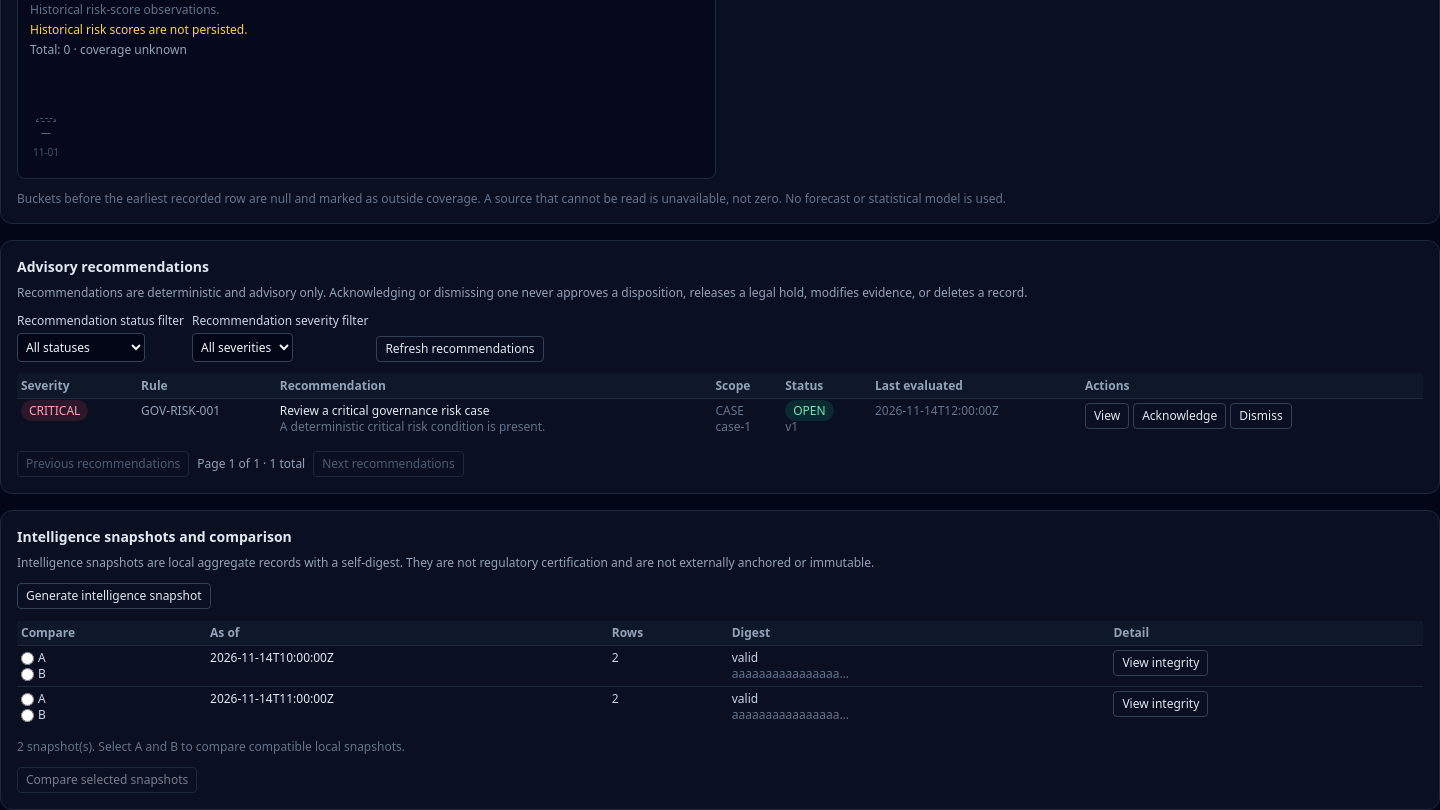
Test: IntelligenceWorkspace › never diffs incompatible or tampered snapshots
(page scrolled)
Click the radio button named "Left snapshot snap-1". click: x=28, y=658
box: 21,652 -> 34,664
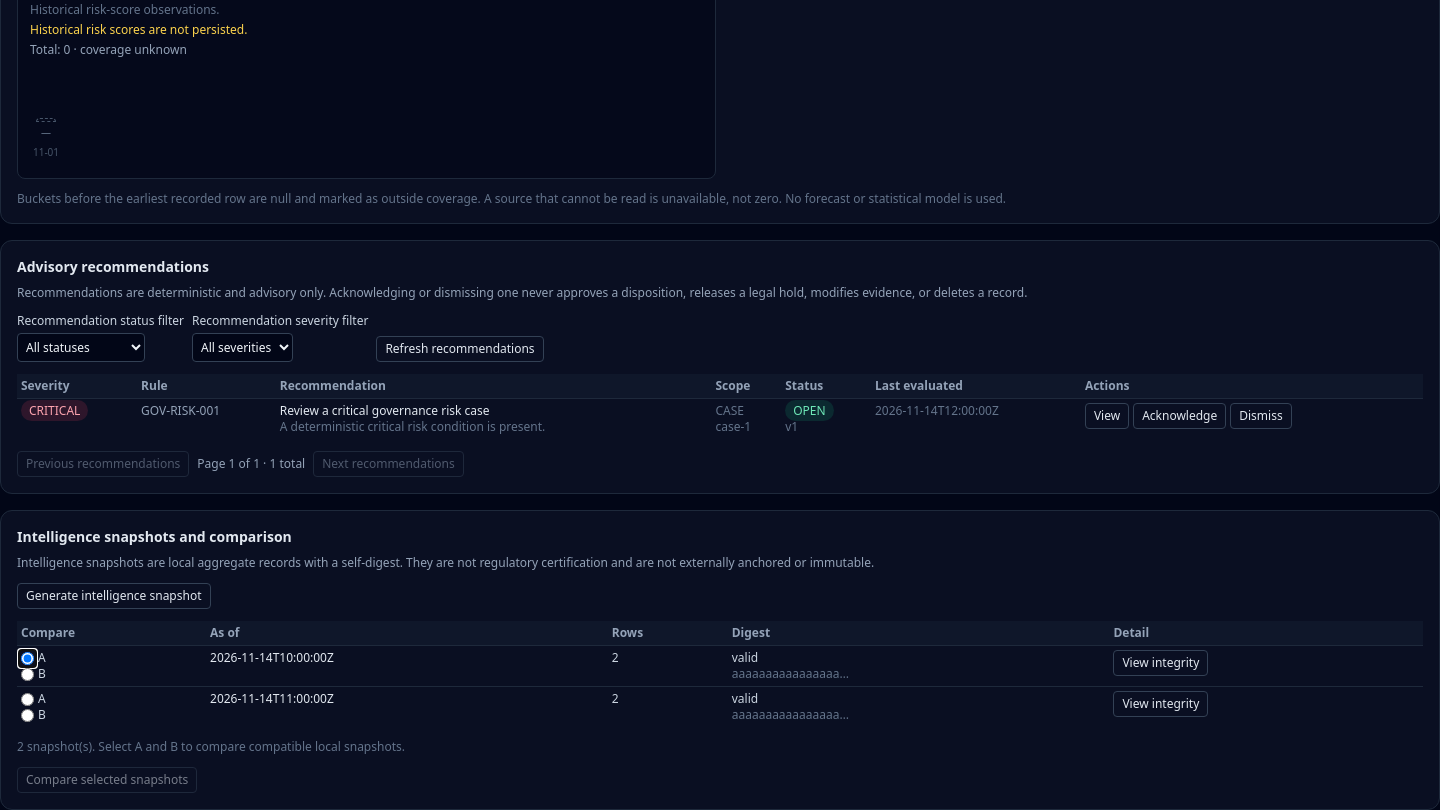
Click the radio button named "Right snapshot snap-2". click: x=28, y=715
box: 21,708 -> 34,722
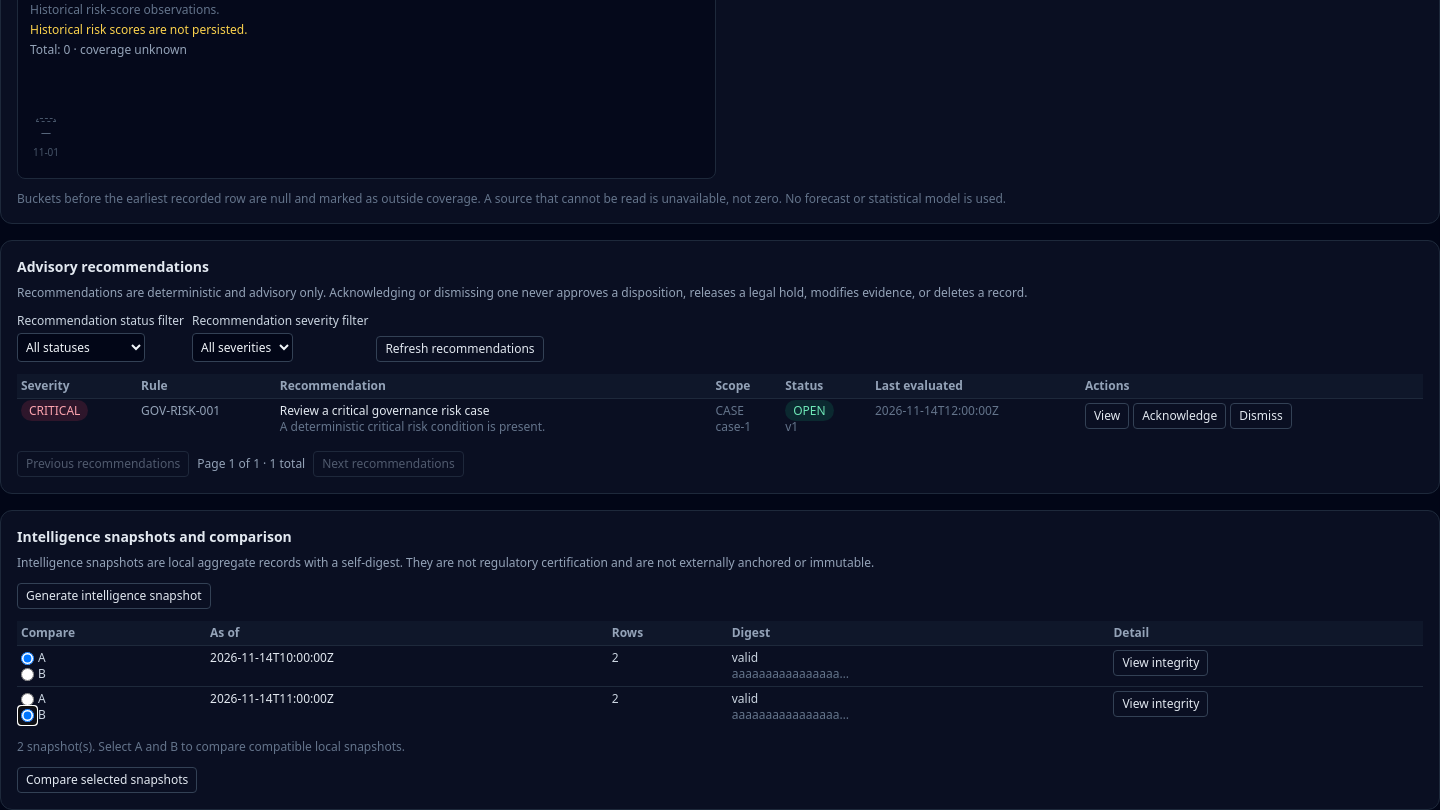
Click the button "Compare selected snapshots". click: x=107, y=780
box: 17,767 -> 197,793
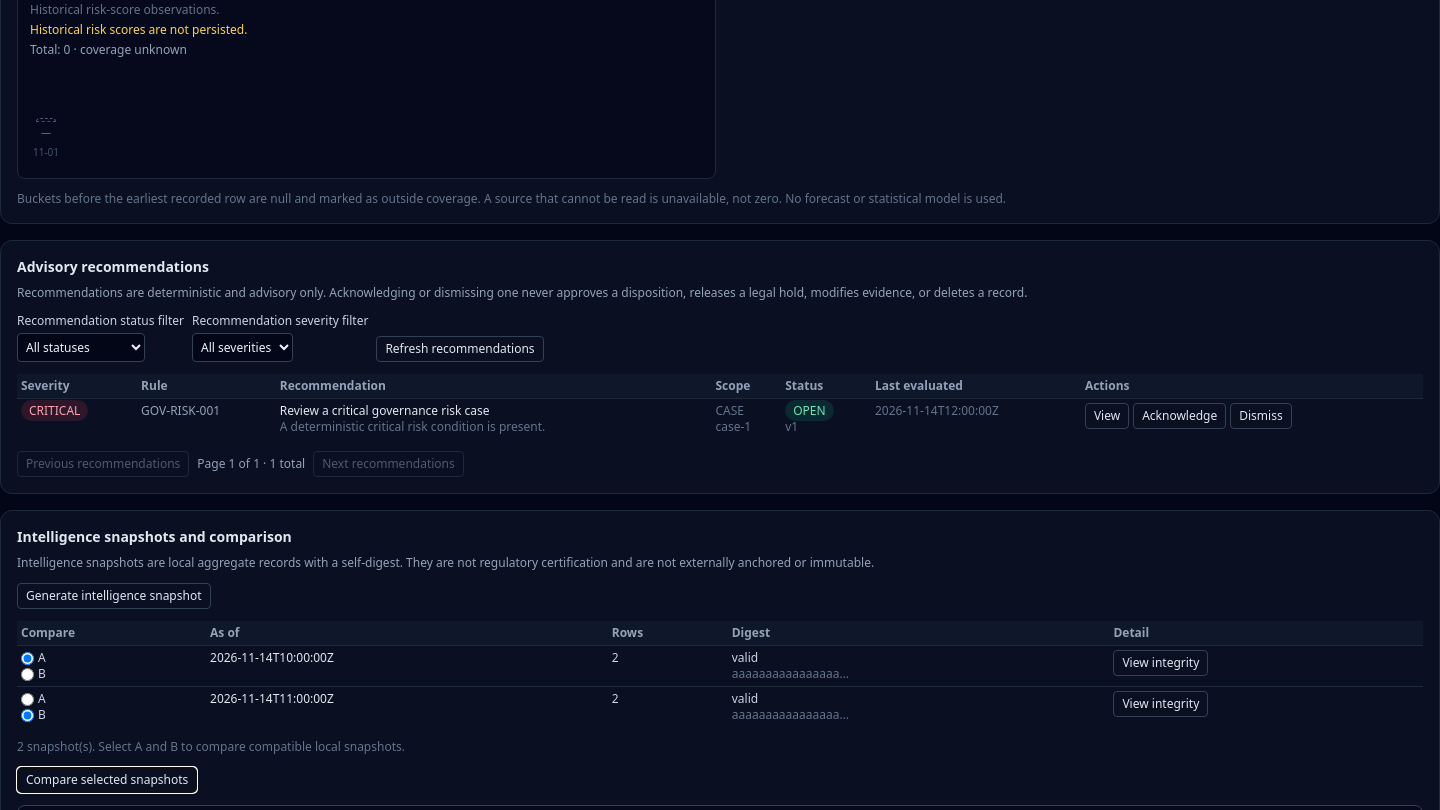
Click the button "Compare selected snapshots". click: x=107, y=780
box: 17,767 -> 197,793
(page scrolled)
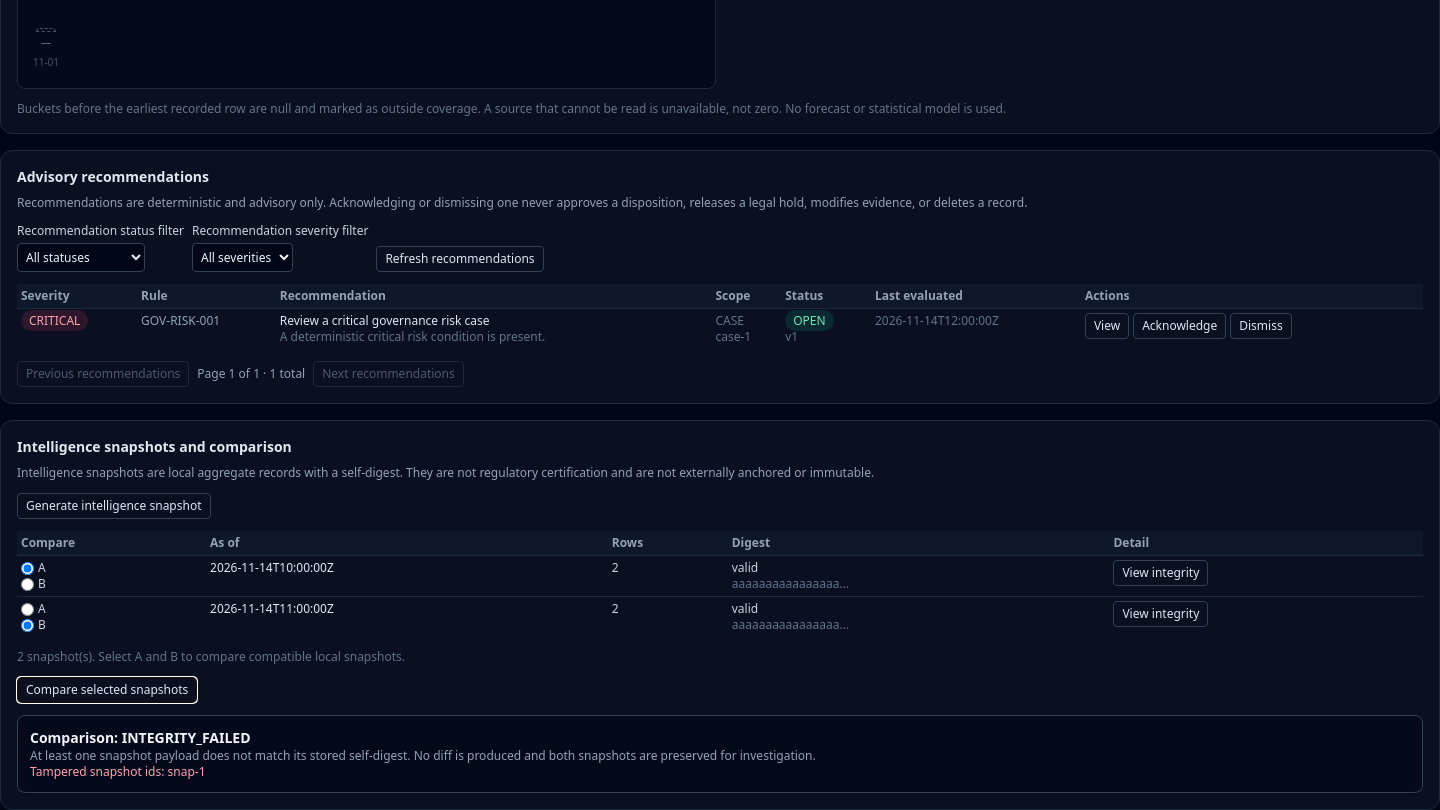
Result: the text "Comparison: INTEGRITY_FAILED" is shown at 30,728 -> 251,747
Result: the text "Tampered snapshot ids: snap-1" is shown at 30,763 -> 206,780
Result: the text "preserved for investigation" is shown at 30,747 -> 816,764
